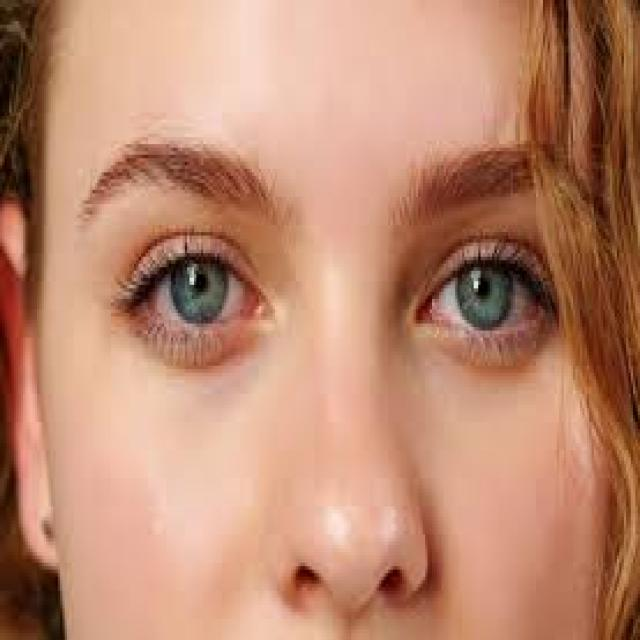Eyes-iris: (454, 252, 516, 332), (169, 249, 228, 327)
